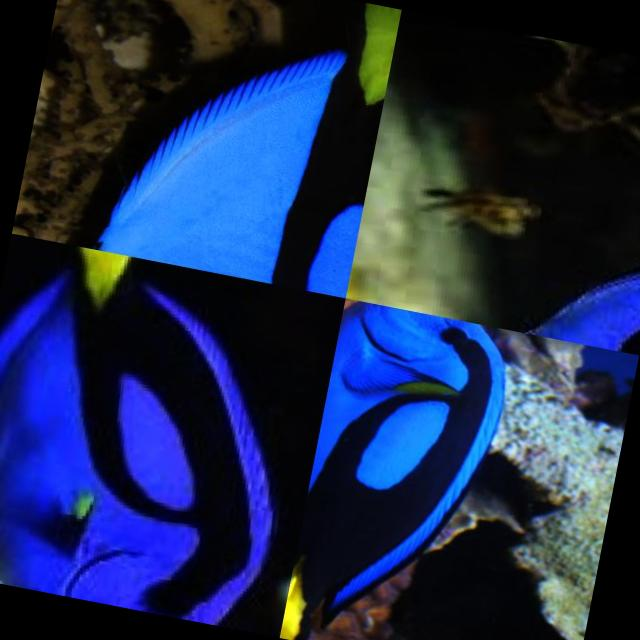BlueTang: (0, 233, 344, 638), (19, 0, 400, 298), (278, 298, 552, 640), (429, 133, 640, 355)
